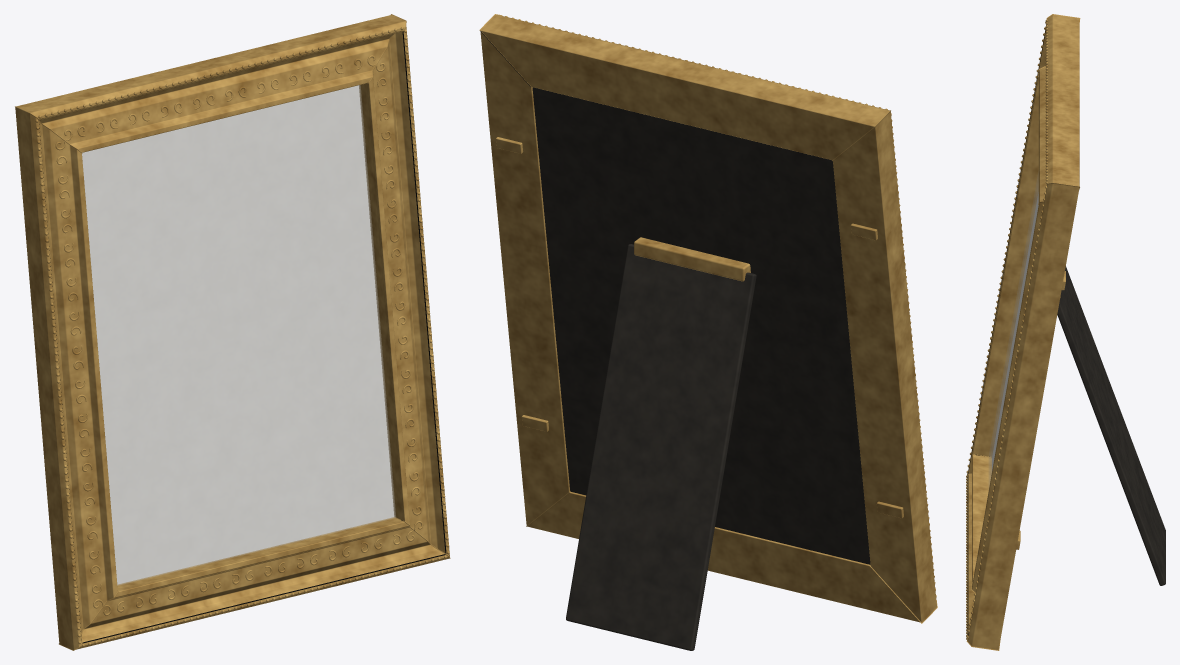
File: portarretrato_3.gltf
The picture shows the model from 3 angles, left to right: view 1: azimuth 30°, elevation 25°; view 2: azimuth 150°, elevation 25°; view 3: azimuth 270°, elevation 25°; orthographic projection. The views are drawn at different scales.
Parts seen in each view (by area): view 1: cristal, foto, liston.003, liston.001, liston.002, liston, ribete.001; view 2: respaldo, soporte, liston.003, liston.002, liston.001, liston, bisagra; view 3: liston.001, soporte, liston.003, liston.002, liston, cristal, ribete.003, foto.
Boxes of the visible parts, x1,y1,x2,y2 form: cristal: [82, 85, 395, 585]; foto: [82, 85, 393, 584]; liston.003: [15, 106, 118, 650]; liston.001: [359, 27, 449, 556]; liston.002: [16, 14, 406, 152]; liston: [76, 517, 450, 649]; ribete.001: [366, 83, 402, 518]; respaldo: [532, 87, 870, 564]; soporte: [566, 244, 756, 650]; liston.003: [833, 111, 937, 623]; liston.002: [479, 14, 890, 160]; liston.001: [480, 31, 570, 526]; liston: [526, 491, 920, 622]; bisagra: [634, 237, 750, 281]; liston.001: [966, 183, 1079, 650]; soporte: [1057, 266, 1165, 585]; liston.003: [968, 25, 1046, 473]; liston.002: [1038, 14, 1080, 201]; liston: [967, 454, 991, 635]; cristal: [989, 173, 1038, 485]; ribete.003: [976, 96, 1038, 455]; foto: [992, 192, 1038, 470].
Bounding box in the file's own units: 0.2355 × 0.3043 × 0.1178.
5 materials, 4 textured.
